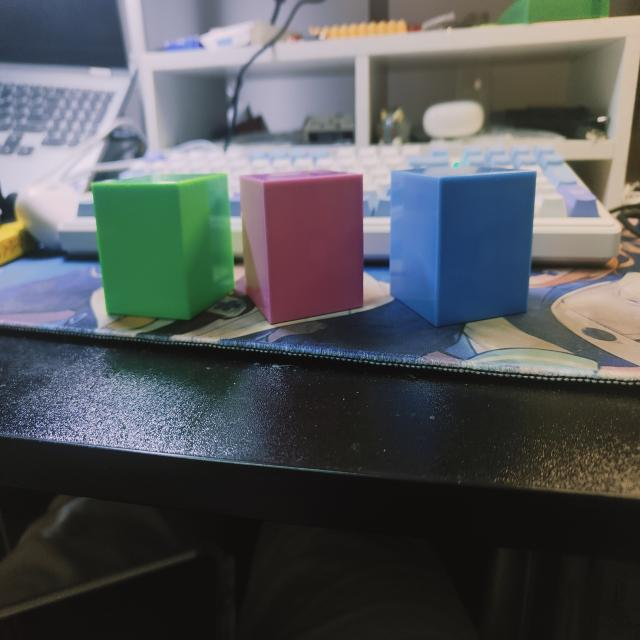blue: (387, 168, 540, 330)
green: (91, 172, 235, 324)
pink: (240, 172, 367, 327)
